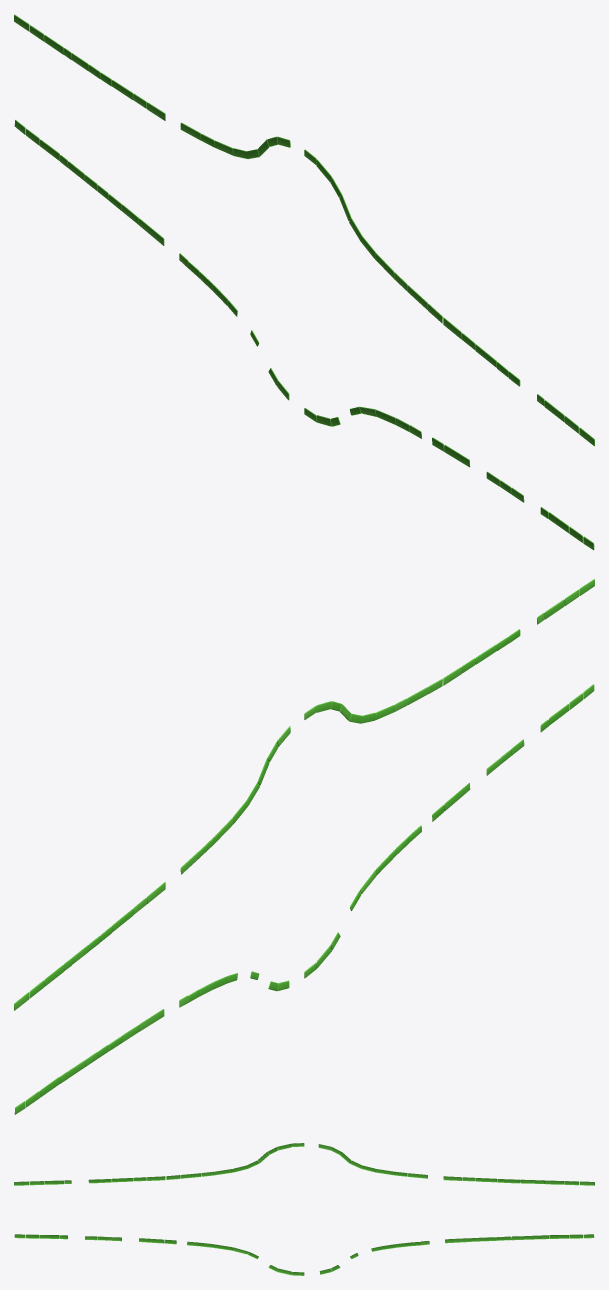
File: PalisadeCell.fbx
The picture shows the model from 3 angles, top to bottom: view 1: azimuth 30°, elevation 25°; view 2: azimuth 150°, elevation 25°; view 3: azimuth 270°, elevation 25°; orthographic projection. The views are drawn at different scales.
Parts seen in each view (by area): view 1: Upper_Layer2_group4_pCube20; view 2: Upper_Layer2_group4_pCube20; view 3: Upper_Layer2_group4_pCube20.
Boxes of the visible parts, <box> form: Upper_Layer2_group4_pCube20: <box>14,14,594,550</box>; Upper_Layer2_group4_pCube20: <box>14,579,594,1114</box>; Upper_Layer2_group4_pCube20: <box>14,1143,594,1275</box>.
Size of the model in its own units: 0.3243 by 112 by 445.
1 material, 1 textured.
